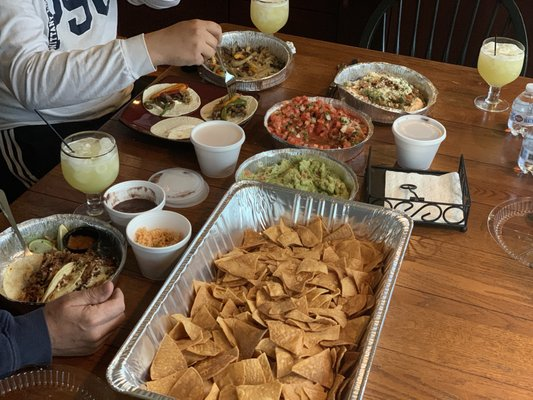pizza: (59, 130, 121, 217), (190, 120, 246, 179), (392, 114, 448, 171)
sushi: (0, 216, 127, 307), (263, 96, 373, 168), (331, 62, 436, 125), (234, 149, 358, 201), (211, 31, 295, 91), (125, 211, 193, 281), (102, 180, 167, 228), (141, 83, 201, 119), (201, 90, 259, 127)
